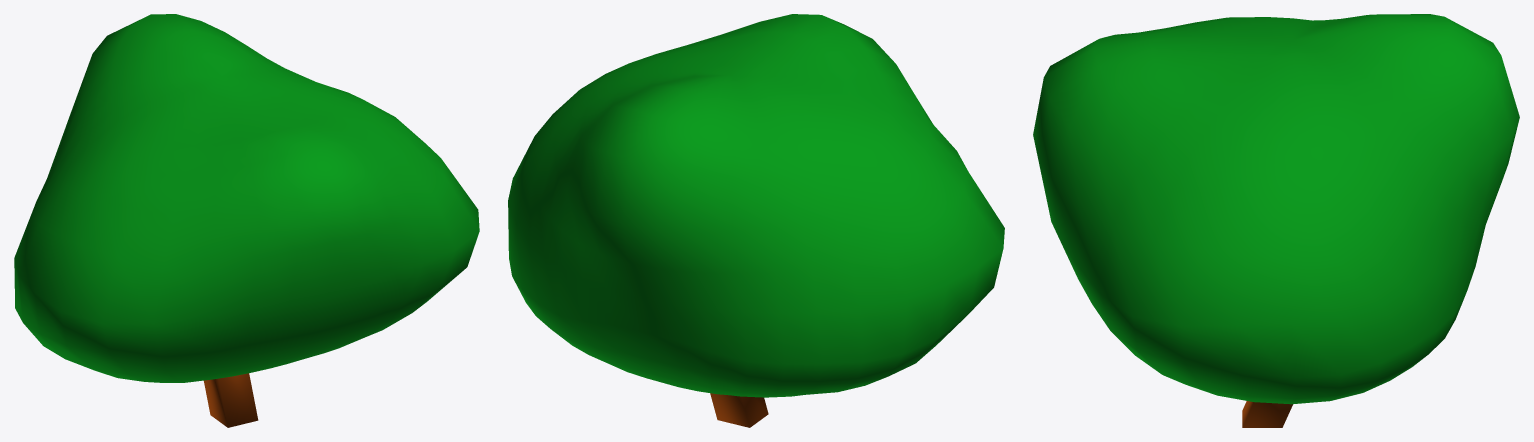
Rendered from krzak.fbx.
3 renders of one model, left to right at view 1: azimuth 30°, elevation 25°; view 2: azimuth 150°, elevation 25°; view 3: azimuth 270°, elevation 25°, orthographic. The views are drawn at different scales.
Parts seen in each view (by area): view 1: Sphere; view 2: Sphere; view 3: Sphere.
Part boxes in pixels (<box>): Sphere: <box>14,14,479,427</box>; Sphere: <box>508,14,1004,427</box>; Sphere: <box>1033,14,1519,427</box>.
Size of the model in its own units: 276 by 217 by 242.
